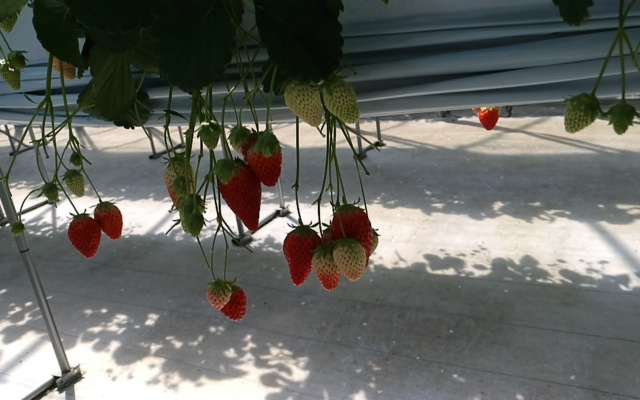GreenStrawberry: (320, 73, 362, 125), (283, 74, 324, 127), (164, 152, 197, 212), (562, 92, 601, 135), (333, 238, 367, 282), (311, 244, 341, 293), (178, 193, 205, 240), (606, 100, 640, 137), (205, 279, 233, 313), (60, 168, 87, 199), (1, 58, 22, 91), (198, 121, 221, 151), (214, 156, 237, 184)
MatureStrawberry: (217, 157, 263, 235), (331, 203, 373, 270), (283, 223, 322, 288), (242, 130, 284, 188), (66, 213, 103, 260), (92, 199, 125, 241), (219, 284, 248, 323)
